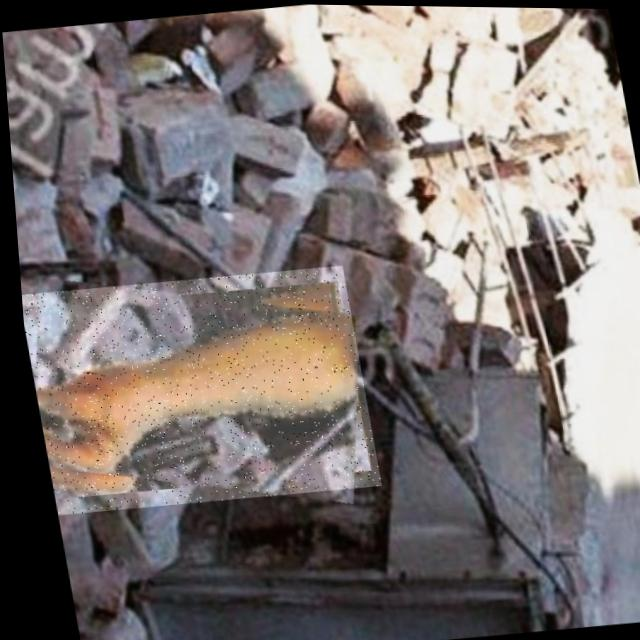Person in Rubble: (15, 260, 374, 518)
